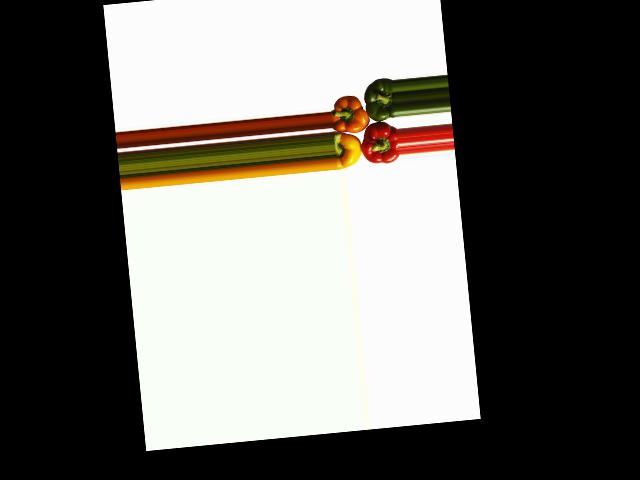bell_pepper: (332, 127, 365, 170)
